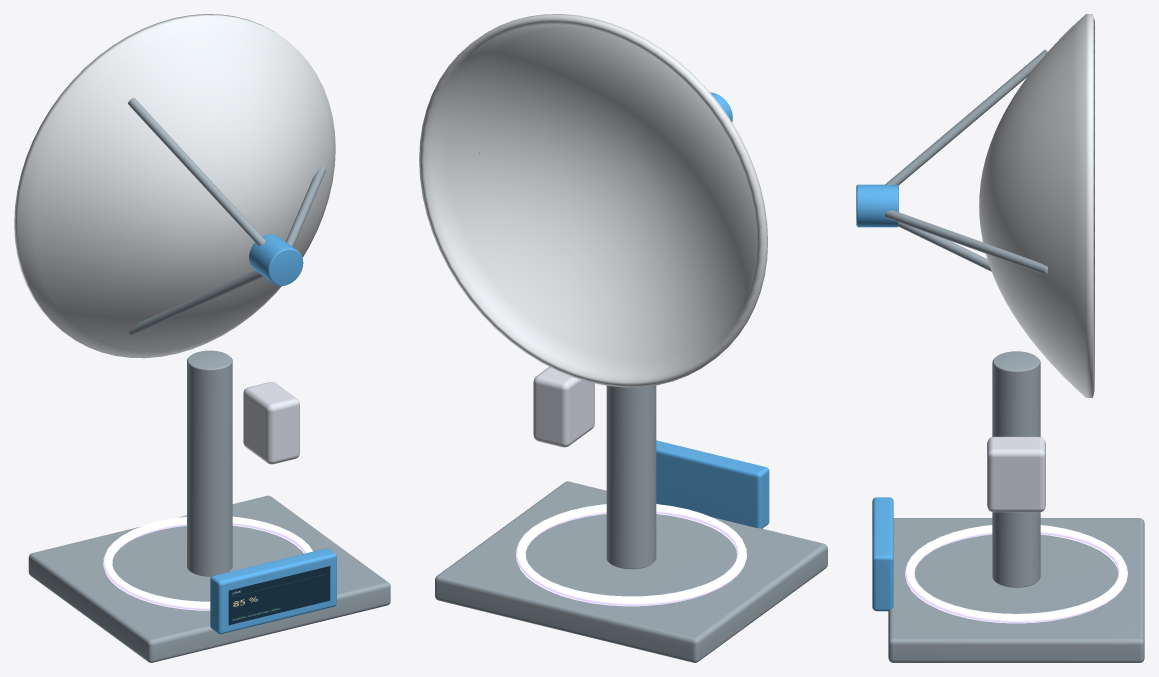
The model's file is communications_dish.glb.
3 renders of one model, left to right at view 1: azimuth 30°, elevation 25°; view 2: azimuth 150°, elevation 25°; view 3: azimuth 270°, elevation 25°, orthographic. The views are drawn at different scales.
Parts seen in each view (by area): view 1: Dish, Dish_Base, Dish_Mast, Signal_Housing, Dish_Telemetry_Unit, Signal_Screen, Dish_Mount_Status, Dish_Receiver, Dish_Feed_Strut2.0943951023931953, Dish_Feed_Strut4.1887902047863905, Dish_Feed_Strut0; view 2: Dish, Dish_Base, Dish_Mast, Signal_Housing, Dish_Mount_Status, Dish_Telemetry_Unit; view 3: Dish, Dish_Base, Dish_Mast, Dish_Mount_Status, Dish_Telemetry_Unit, Signal_Housing, Dish_Feed_Strut2.0943951023931953, Dish_Receiver, Dish_Feed_Strut0, Dish_Feed_Strut4.1887902047863905.
Part boxes in pixels (<box>): Dish: <box>14,14,335,358</box>; Dish_Base: <box>28,495,390,662</box>; Dish_Mast: <box>187,350,232,576</box>; Signal_Housing: <box>210,548,336,634</box>; Dish_Telemetry_Unit: <box>243,382,299,464</box>; Signal_Screen: <box>228,566,330,625</box>; Dish_Mount_Status: <box>103,516,312,610</box>; Dish_Receiver: <box>249,234,303,285</box>; Dish_Feed_Strut2.0943951023931953: <box>128,98,265,245</box>; Dish_Feed_Strut4.1887902047863905: <box>128,270,263,335</box>; Dish_Feed_Strut0: <box>286,165,325,246</box>; Dish: <box>419,14,767,387</box>; Dish_Base: <box>435,481,827,662</box>; Dish_Mast: <box>606,385,656,569</box>; Signal_Housing: <box>656,440,769,528</box>; Dish_Mount_Status: <box>516,504,746,606</box>; Dish_Telemetry_Unit: <box>533,367,594,447</box>; Dish: <box>979,14,1094,397</box>; Dish_Base: <box>888,518,1144,662</box>; Dish_Mast: <box>992,351,1040,587</box>; Dish_Mount_Status: <box>905,525,1127,623</box>; Dish_Telemetry_Unit: <box>987,436,1045,512</box>; Signal_Housing: <box>872,497,893,611</box>; Dish_Feed_Strut2.0943951023931953: <box>885,50,1047,185</box>; Dish_Receiver: <box>856,184,898,227</box>; Dish_Feed_Strut0: <box>885,210,1047,275</box>; Dish_Feed_Strut4.1887902047863905: <box>898,222,991,271</box>.
Bounding box in the file's own units: 0.72 × 1.18 × 0.54.
Materials: 6 (1 with a texture image).
